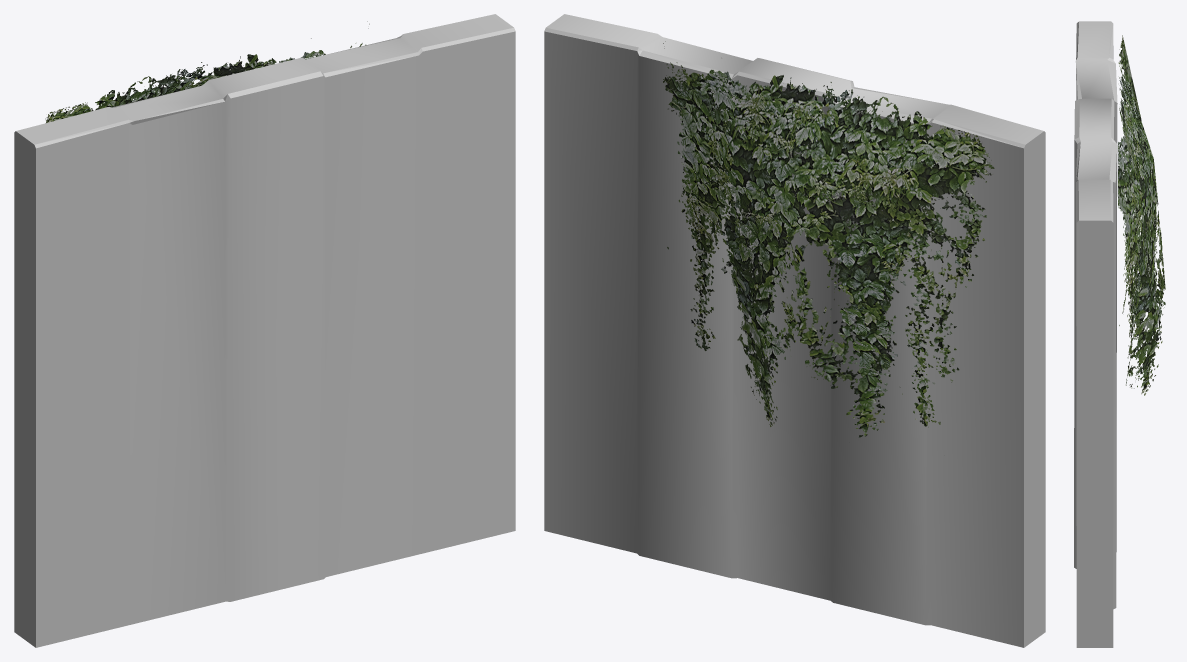
File: RV_BarrierWall_003.fbx
The picture shows the model from 3 angles, left to right: view 1: azimuth 30°, elevation 25°; view 2: azimuth 150°, elevation 25°; view 3: azimuth 270°, elevation 25°; orthographic projection. The views are drawn at different scales.
Parts seen in each view (by area): view 1: RV_BarrierWall_003; view 2: RV_BarrierWall_003; view 3: RV_BarrierWall_003.
Boxes of the visible parts, x1,y1,x2,y2 form: RV_BarrierWall_003: [14, 14, 515, 647]; RV_BarrierWall_003: [544, 14, 1045, 647]; RV_BarrierWall_003: [1074, 21, 1165, 647].
Size of the model in its own units: 256 by 266 by 53.7.
